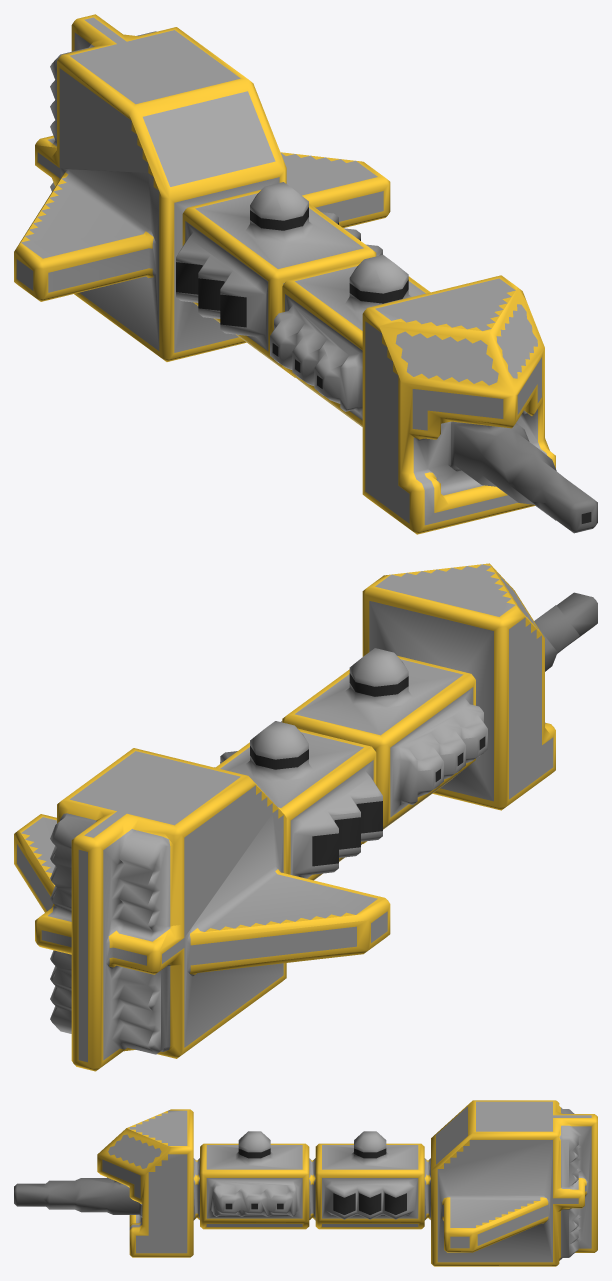
The model's file is mechyrdia-4-honos-class.obj.
3 views of the same model, one above another, from view 1: azimuth 30°, elevation 25°; view 2: azimuth 150°, elevation 25°; view 3: azimuth 270°, elevation 25° (orthographic). The views are drawn at different scales.
Bounding box in the file's own units: 37 × 23 × 91.
Materials: 1 (1 with a texture image).
